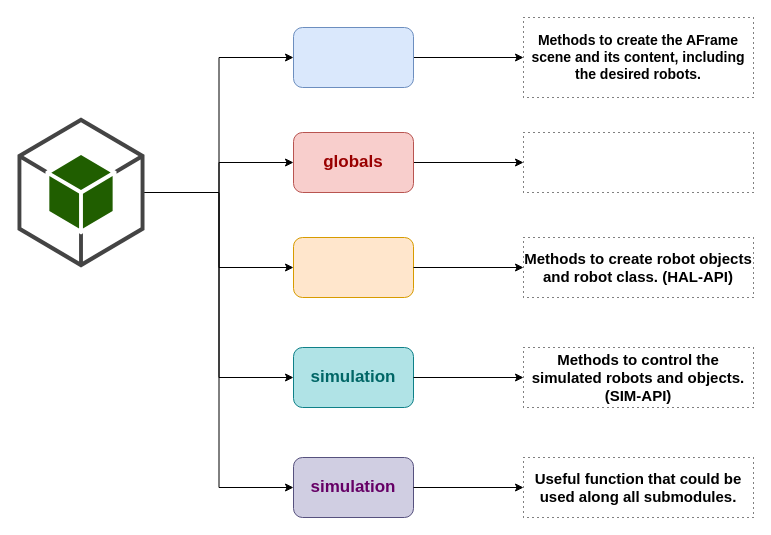
Image size: 771x535. Some labels were removed from this diagram. The shapes that lost their labels are listed below. From the top down, each one's centre as x and y in pixels, then its label:
At [353,57]: "config".
At [638,162]: "Global variables to be used by different submodules".
At [80,192]: "Websim".
At [353,267]: "robots".
